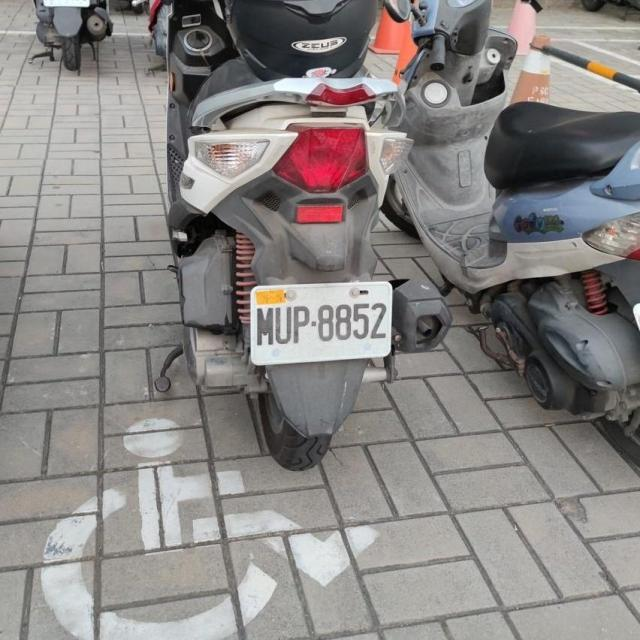W: (246, 275, 400, 367), (41, 0, 92, 7)
